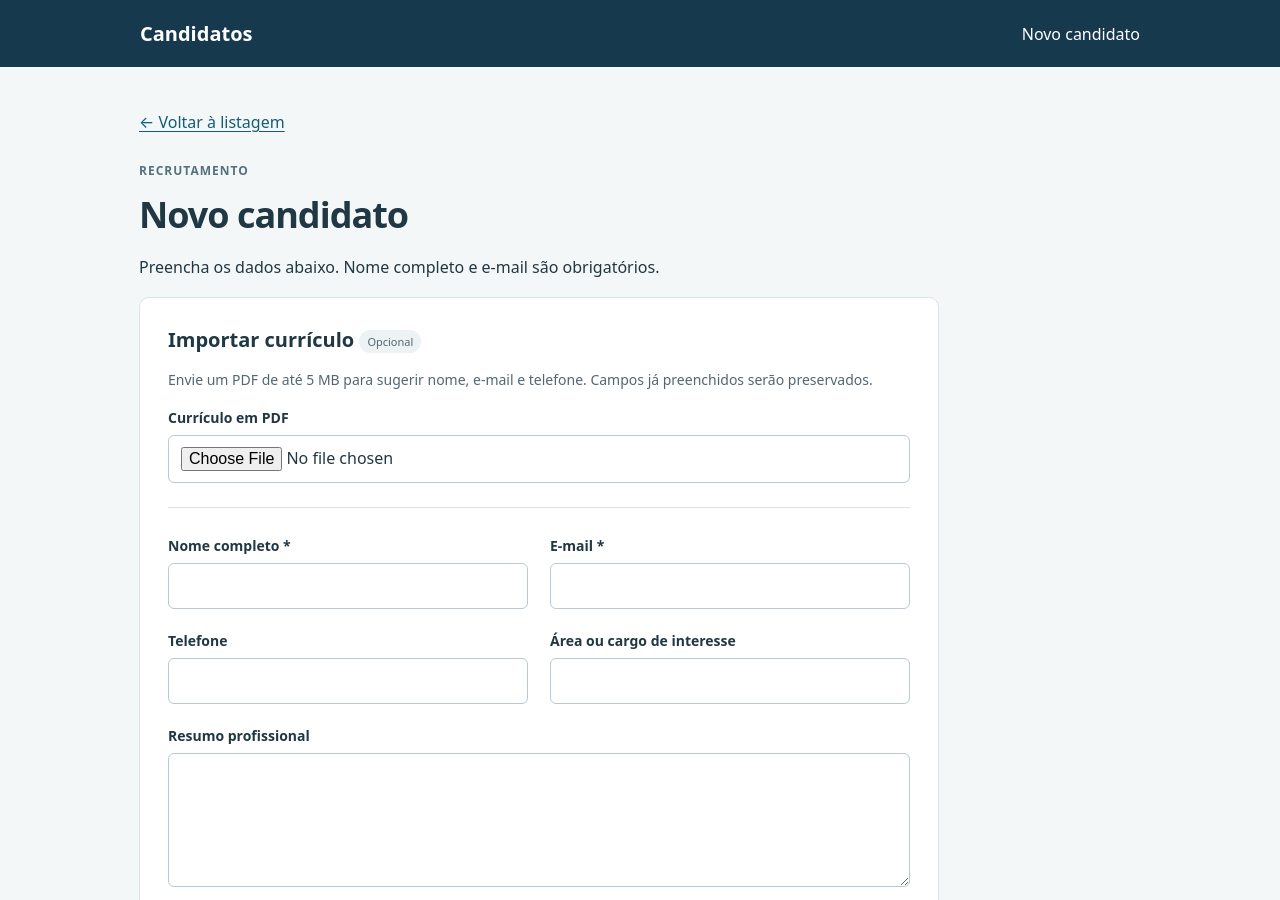
Test case: salva manualmente sem arquivo
Type "Ana Silva" into the field labelled "Nome completo" at (348, 586), box x1=168 y1=563 x2=528 y2=609
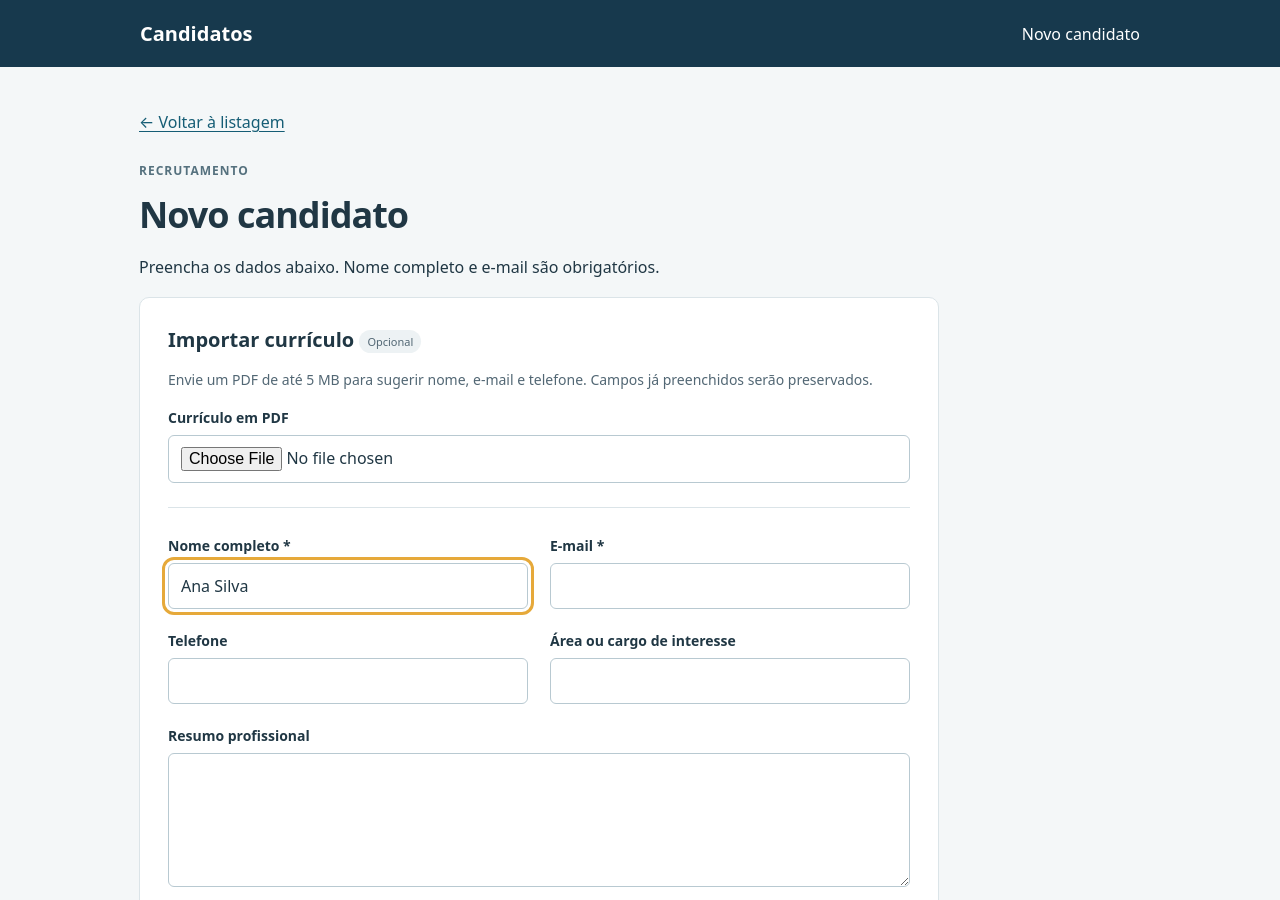
Type "ana@example.com" into the field labelled "E-mail" at (730, 586), box x1=550 y1=563 x2=910 y2=609
(page scrolled)
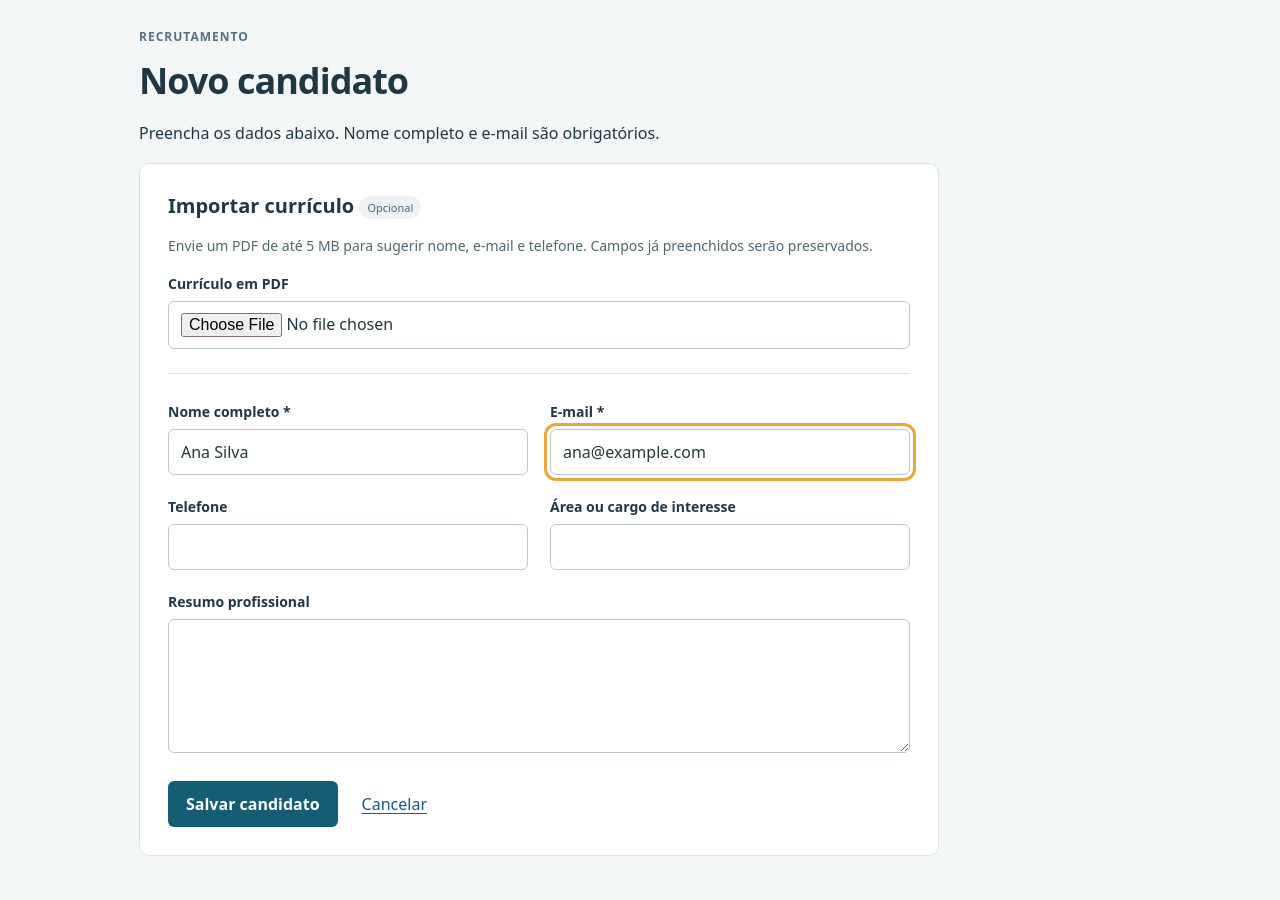
Click the button "Salvar candidato" at (253, 804), box x1=168 y1=781 x2=338 y2=827
(page scrolled)
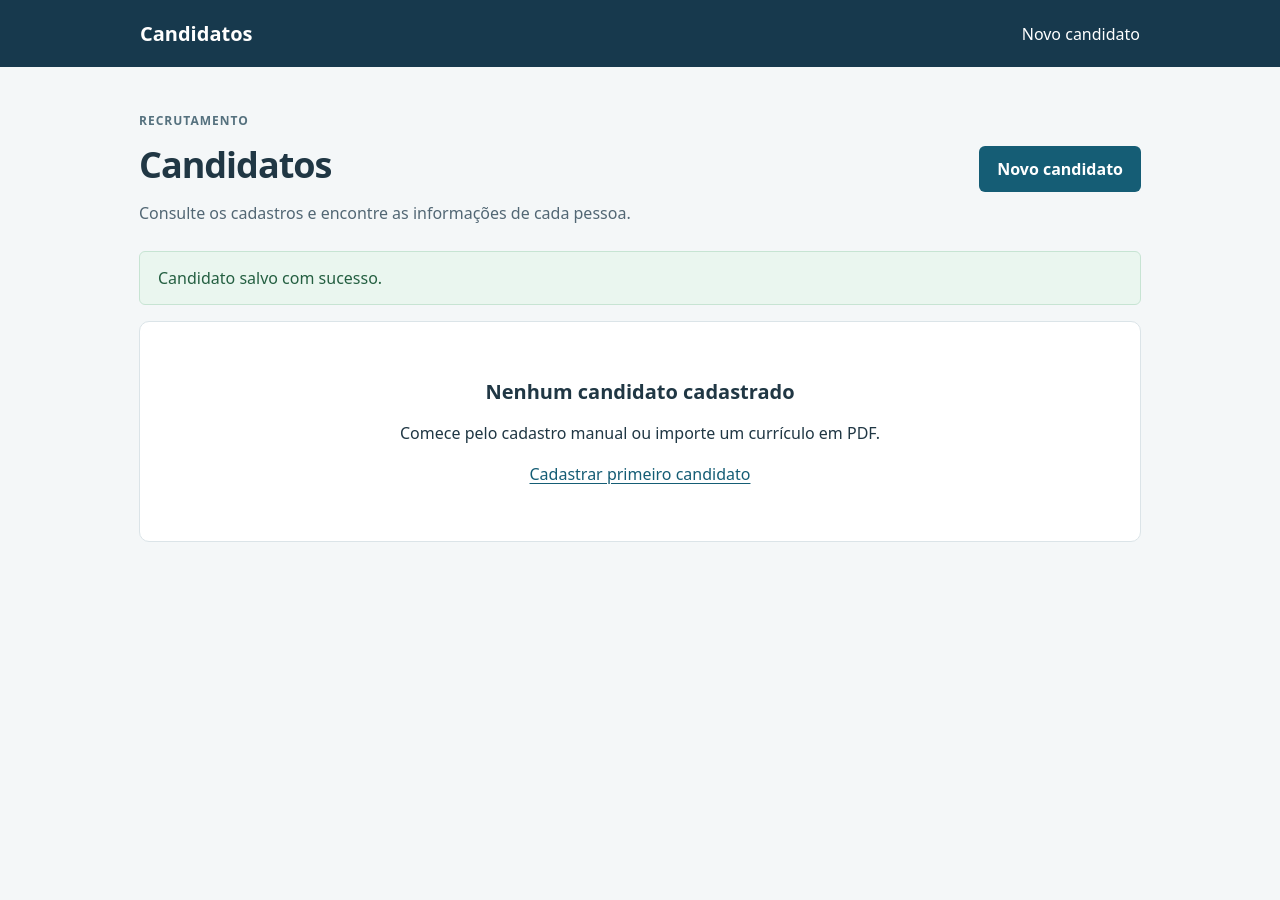
expect the text "Candidato salvo com sucesso." is shown: met, box x1=139 y1=251 x2=1141 y2=305
